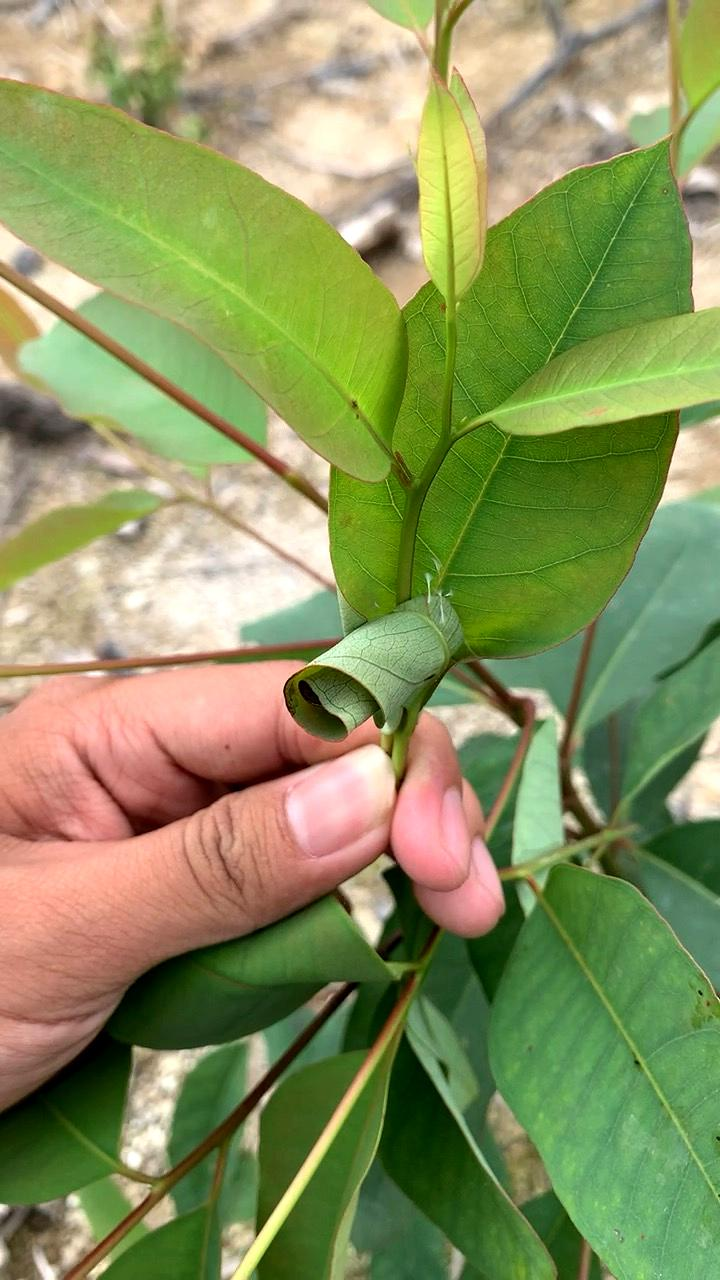Leaf Roller - Leaf: (247, 566, 533, 764)
